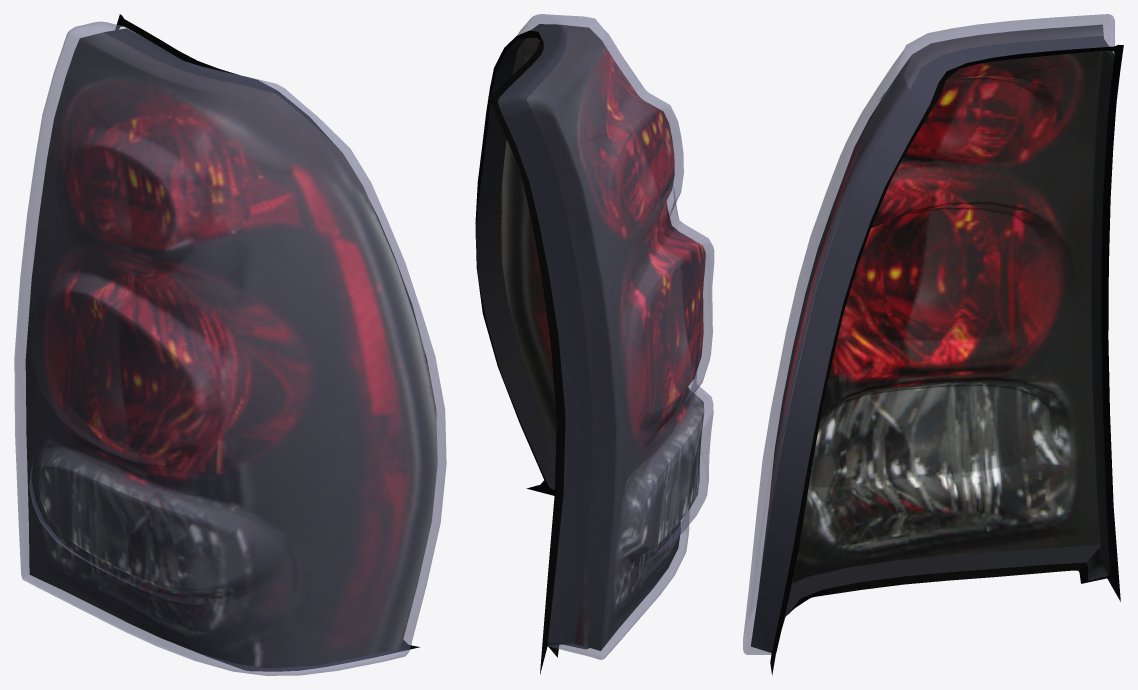
3 renders of one model, left to right at view 1: azimuth 30°, elevation 25°; view 2: azimuth 150°, elevation 25°; view 3: azimuth 270°, elevation 25°, orthographic. The views are drawn at different scales.
Parts seen in each view (by area): view 1: U843_9A_541C_R_U843_9A_541C_R_2_DTaSI, U843_9A_541C_R_1_N_U843_9A_541C_R, U843_9A_541C_R_U843_9A_541C_R_3_D; view 2: U843_9A_541C_R_1_N_U843_9A_541C_R, U843_9A_541C_R_U843_9A_541C_R_2_DTaSI, U843_9A_541C_R_U843_9A_541C_R_3_D; view 3: U843_9A_541C_R_1_N_U843_9A_541C_R, U843_9A_541C_R_U843_9A_541C_R_2_DTaSI, U843_9A_541C_R_U843_9A_541C_R_3_D.
Part boxes in pixels (box(x1,y1,x2,y2)): U843_9A_541C_R_U843_9A_541C_R_2_DTaSI: box(14, 21, 446, 675); U843_9A_541C_R_1_N_U843_9A_541C_R: box(25, 28, 437, 668); U843_9A_541C_R_U843_9A_541C_R_3_D: box(115, 14, 421, 671); U843_9A_541C_R_1_N_U843_9A_541C_R: box(475, 24, 705, 650); U843_9A_541C_R_U843_9A_541C_R_2_DTaSI: box(498, 14, 714, 659); U843_9A_541C_R_U843_9A_541C_R_3_D: box(475, 30, 588, 674); U843_9A_541C_R_1_N_U843_9A_541C_R: box(751, 24, 1114, 652); U843_9A_541C_R_U843_9A_541C_R_2_DTaSI: box(743, 14, 1114, 654); U843_9A_541C_R_U843_9A_541C_R_3_D: box(770, 44, 1123, 675).
Size of the model in its own units: 18.05 by 33.91 by 19.94.
